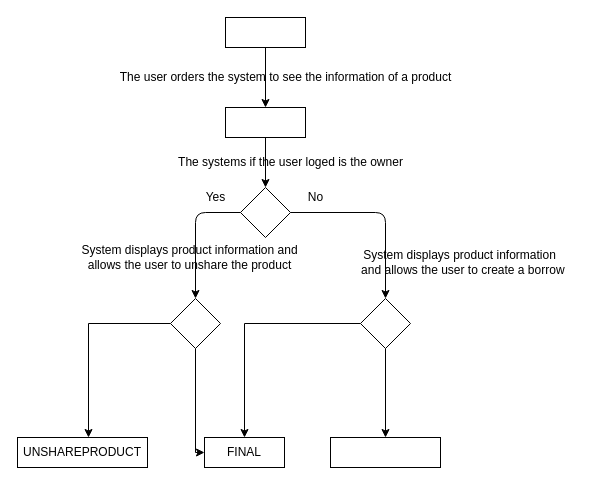
This 592x485 diagram has some shape labels left out. Here are the shapes that lost their labels. From the top down, the centre of each, then its label:
the point at 265,32: INITIAL
the point at 385,452: CREATEBORROW
